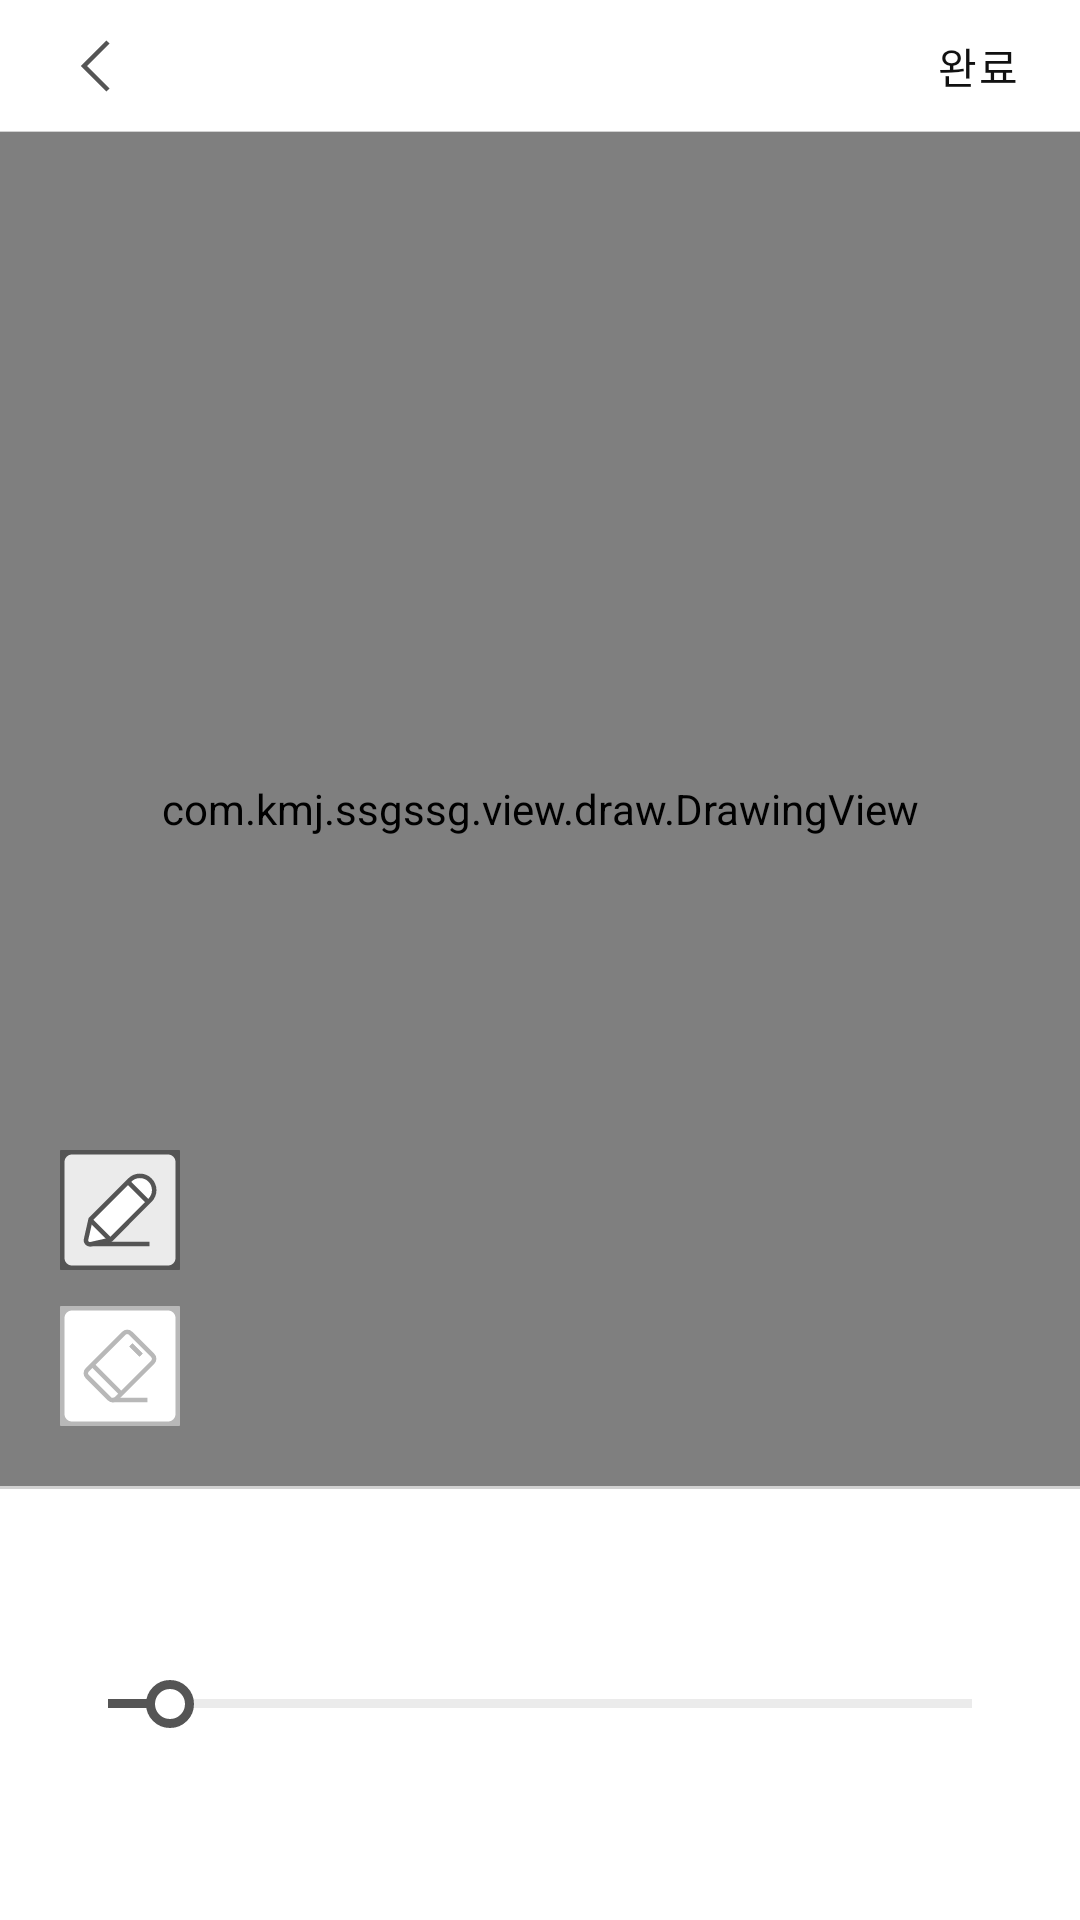

Icons on this 1080 × 1920 Android screen, each with the point to tap as [x,y]:
back: [95,66]
eraser: [120,1366]
pencil: [120,1210]
